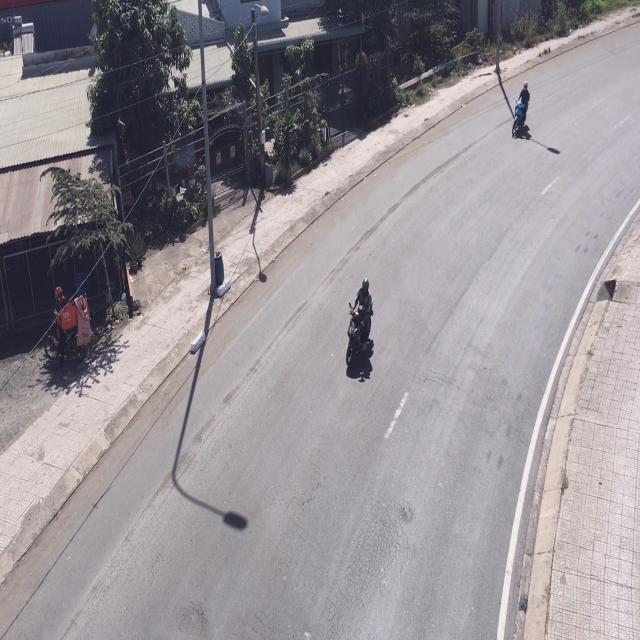motorbike: (346, 280, 376, 380), (509, 81, 532, 144)
